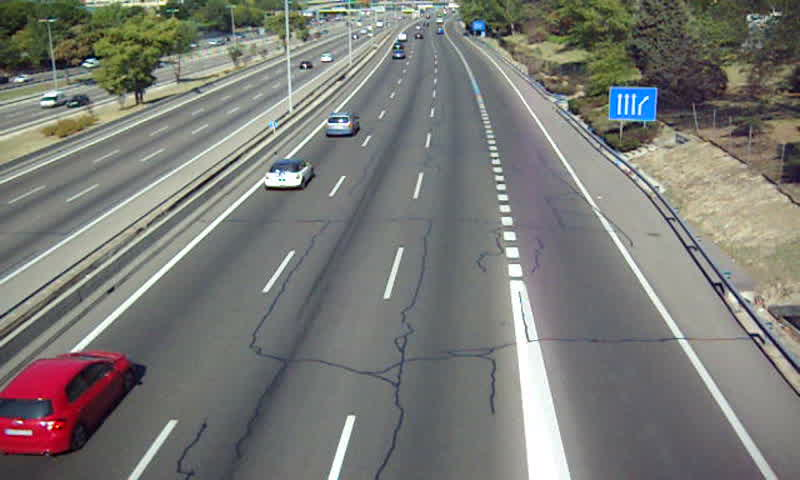car: (1, 352, 133, 455), (265, 159, 313, 190), (323, 113, 359, 135), (391, 50, 407, 61)
